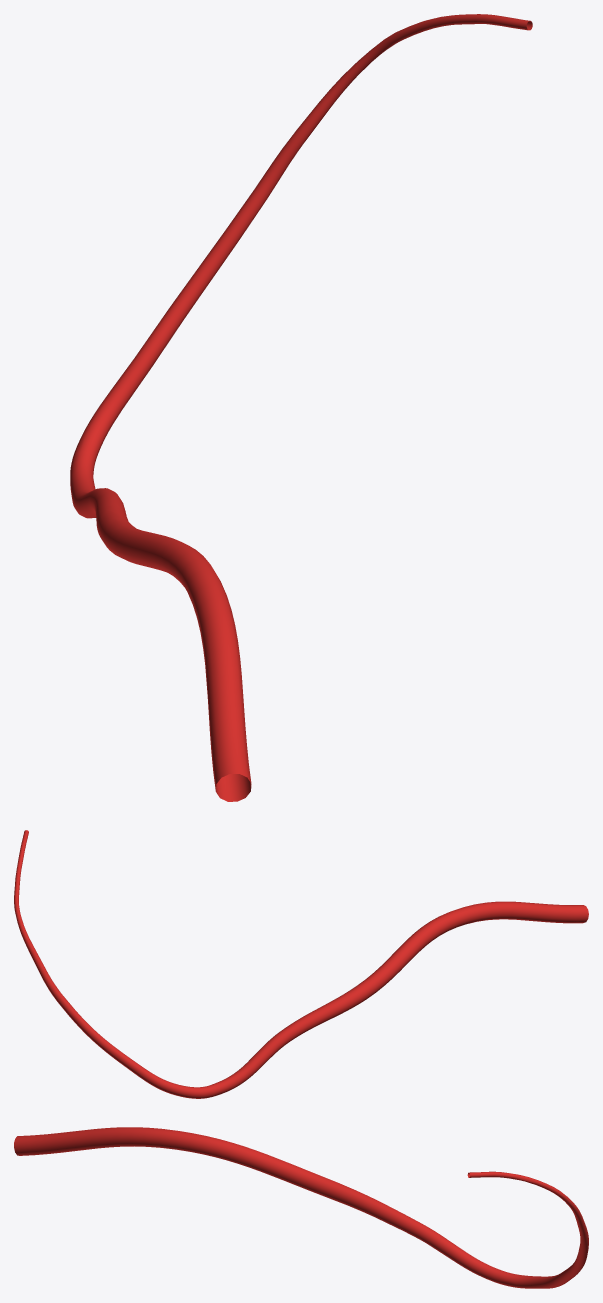
The model's file is circulatorio-medial-circumflex-femoral-veins-l.glb.
3 views of the same model, one above another, from view 1: azimuth 30°, elevation 25°; view 2: azimuth 150°, elevation 25°; view 3: azimuth 270°, elevation 25° (orthographic). The views are drawn at different scales.
Visible parts, largest first — view 1: Medial circumflex femoral veins.l; view 2: Medial circumflex femoral veins.l; view 3: Medial circumflex femoral veins.l.
Boxes of the visible parts, x1,y1,x2,y2 form: Medial circumflex femoral veins.l: [70, 14, 532, 801]; Medial circumflex femoral veins.l: [14, 830, 588, 1098]; Medial circumflex femoral veins.l: [14, 1127, 588, 1288].
Size of the model in its own units: 0.0593 by 0.0317 by 0.0741.
